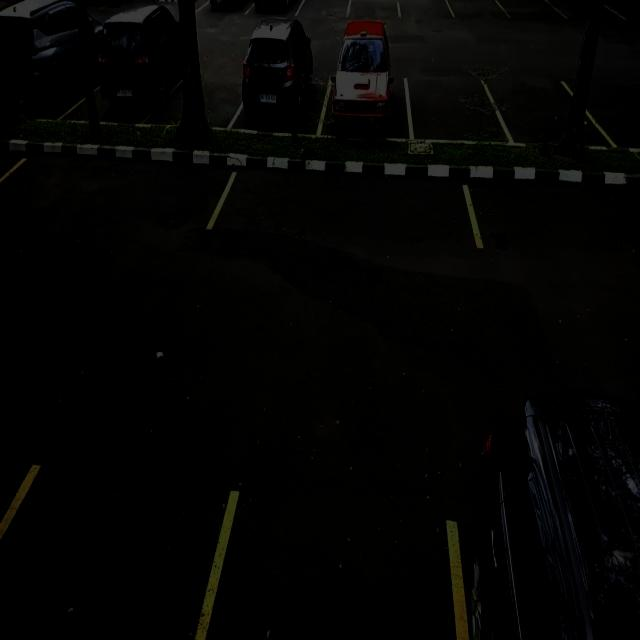empty: (4, 467, 234, 638), (208, 488, 462, 640), (226, 162, 478, 253), (5, 150, 227, 236), (468, 178, 639, 256), (499, 80, 598, 150), (408, 77, 500, 145), (595, 83, 640, 155), (549, 0, 615, 18), (499, 0, 555, 21), (397, 0, 450, 22), (448, 0, 499, 21), (349, 0, 401, 18), (301, 0, 350, 16)
occupied: (0, 9, 81, 121), (96, 20, 178, 124), (240, 46, 324, 137), (326, 62, 409, 142), (204, 0, 253, 16), (251, 0, 303, 15)
